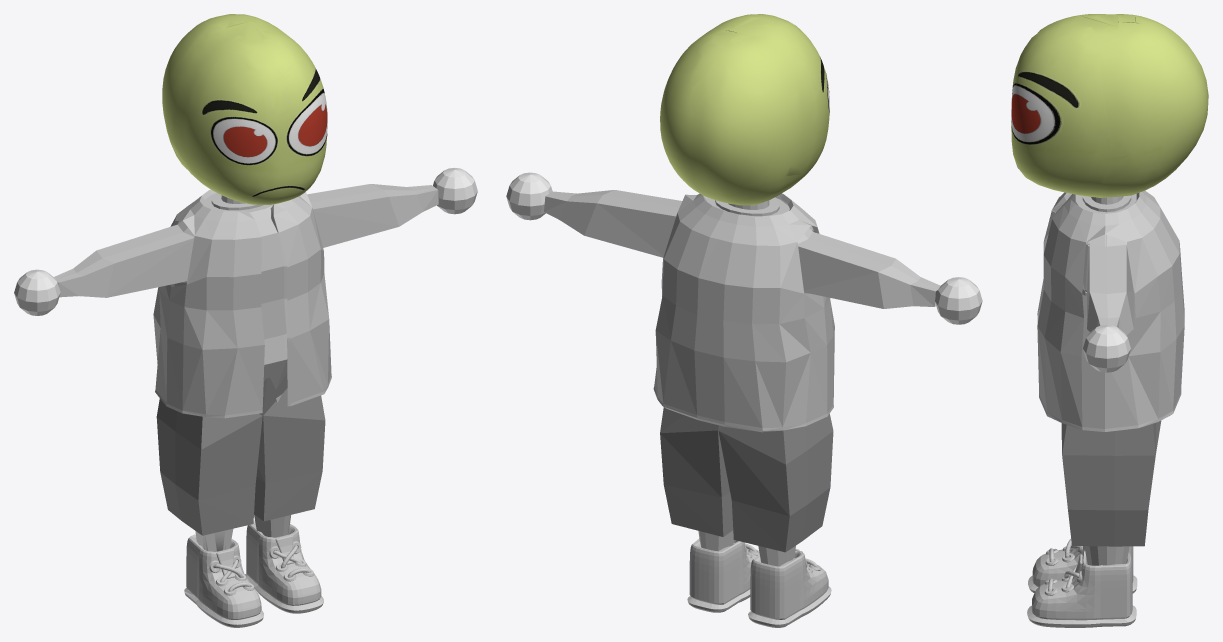
File: Zombie.FBX
The picture shows the model from 3 angles, left to right: view 1: azimuth 30°, elevation 25°; view 2: azimuth 150°, elevation 25°; view 3: azimuth 270°, elevation 25°; orthographic projection. The views are drawn at different scales.
Parts seen in each view (by area): view 1: TeeShirt, head, Short, Body, RightShoe, LeftShoe, RightHand, LeftHand; view 2: TeeShirt, head, Short, Body, RightShoe, LeftShoe, RightHand, LeftHand; view 3: head, TeeShirt, Short, LeftShoe, Body, LeftHand, RightShoe.
Part boxes in pixels (x1,y1,x2,y2): TeeShirt: [153, 189, 331, 418]; head: [162, 14, 327, 204]; Short: [156, 373, 325, 535]; Body: [54, 184, 438, 551]; RightShoe: [184, 534, 263, 627]; LeftShoe: [245, 520, 323, 613]; RightHand: [14, 269, 60, 315]; LeftHand: [433, 167, 477, 214]; TeeShirt: [653, 193, 834, 432]; head: [660, 14, 829, 205]; Short: [660, 407, 833, 552]; Body: [544, 190, 940, 566]; RightShoe: [748, 549, 831, 627]; LeftShoe: [687, 538, 759, 612]; RightHand: [935, 277, 982, 324]; LeftHand: [506, 172, 552, 220]; head: [1011, 14, 1208, 197]; TeeShirt: [1037, 190, 1184, 431]; Short: [1061, 420, 1161, 546]; LeftShoe: [1027, 551, 1136, 627]; Body: [1057, 194, 1136, 565]; LeftHand: [1083, 324, 1130, 372]; RightShoe: [1028, 538, 1137, 593].
Size of the model in its own units: 0.5361 by 0.6319 by 0.1937.
